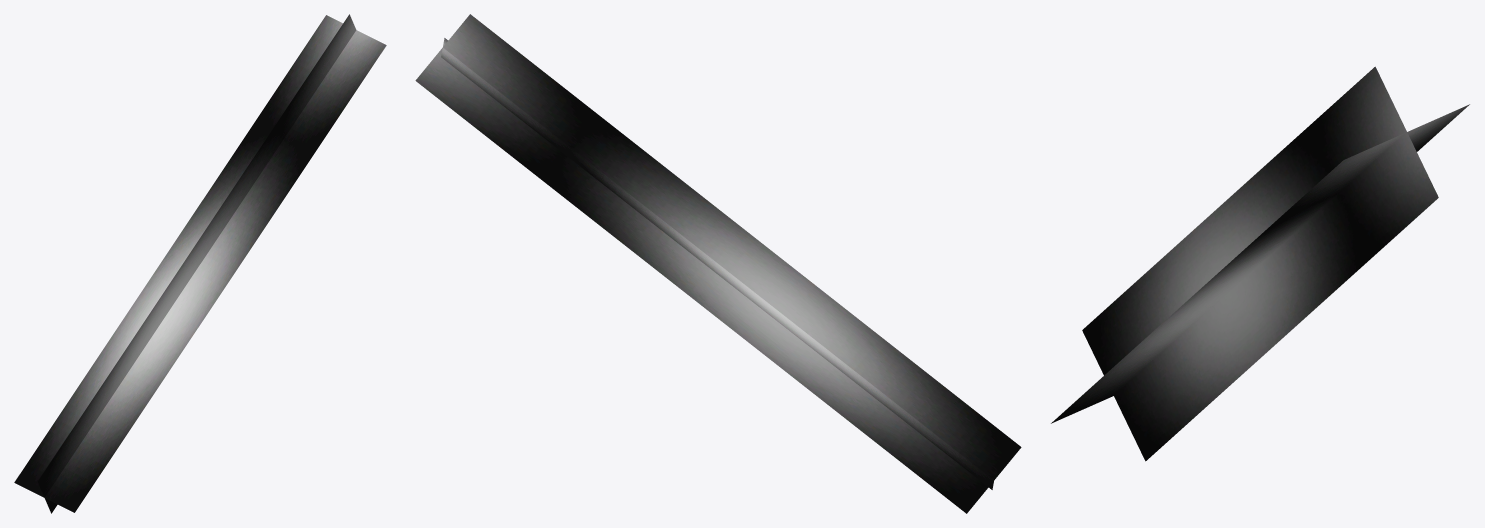
Rendered from vfx_kurp_0778.dae.
3 renders of one model, left to right at view 1: azimuth 30°, elevation 25°; view 2: azimuth 150°, elevation 25°; view 3: azimuth 270°, elevation 25°, orthographic. The views are drawn at different scales.
Visible parts, largest first — view 1: vfx_kurp_0778; view 2: vfx_kurp_0778; view 3: vfx_kurp_0778.
Boxes of the visible parts, x1,y1,x2,y2 form: vfx_kurp_0778: [14, 14, 386, 513]; vfx_kurp_0778: [415, 14, 1021, 513]; vfx_kurp_0778: [1051, 66, 1469, 461].
Bounding box in the file's own units: 1.18 × 0.5159 × 1.01.
1 material, 1 textured.
